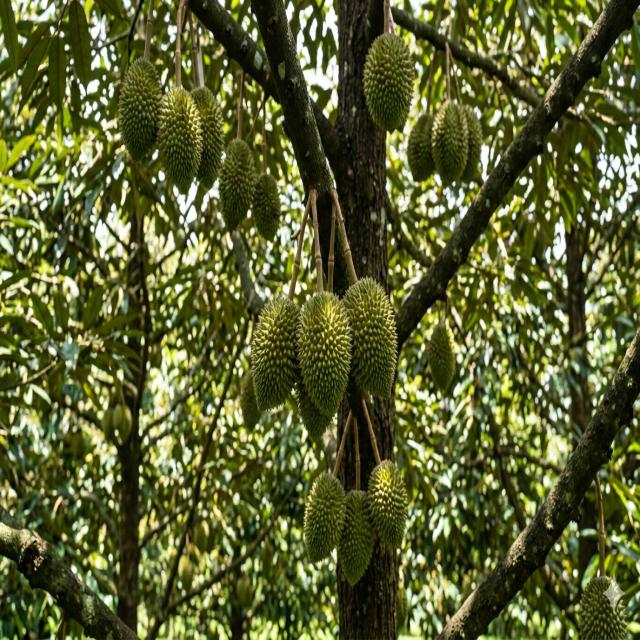immature: (295, 288, 352, 418), (342, 274, 399, 400), (250, 292, 304, 411), (362, 30, 416, 132), (158, 85, 204, 192), (118, 57, 164, 164), (303, 469, 347, 563), (366, 459, 410, 549), (189, 85, 227, 188), (337, 488, 374, 584), (218, 140, 257, 230), (576, 573, 628, 639), (432, 99, 472, 184), (251, 171, 282, 241), (407, 113, 437, 183), (428, 322, 456, 392), (239, 368, 260, 428), (104, 403, 132, 446), (177, 554, 196, 592), (396, 585, 408, 630)
